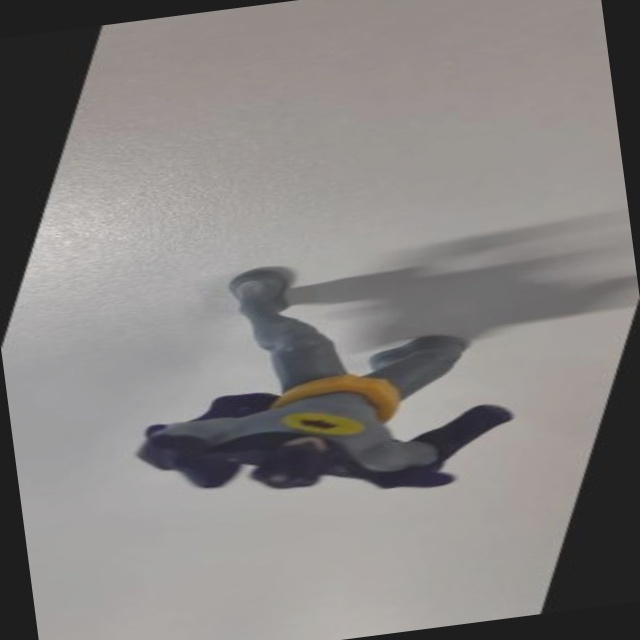Batman: (58, 183, 625, 553)
